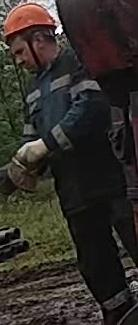gloves: (7, 137, 51, 190)
helmet: (2, 2, 57, 45)
vest: (24, 48, 126, 212)
